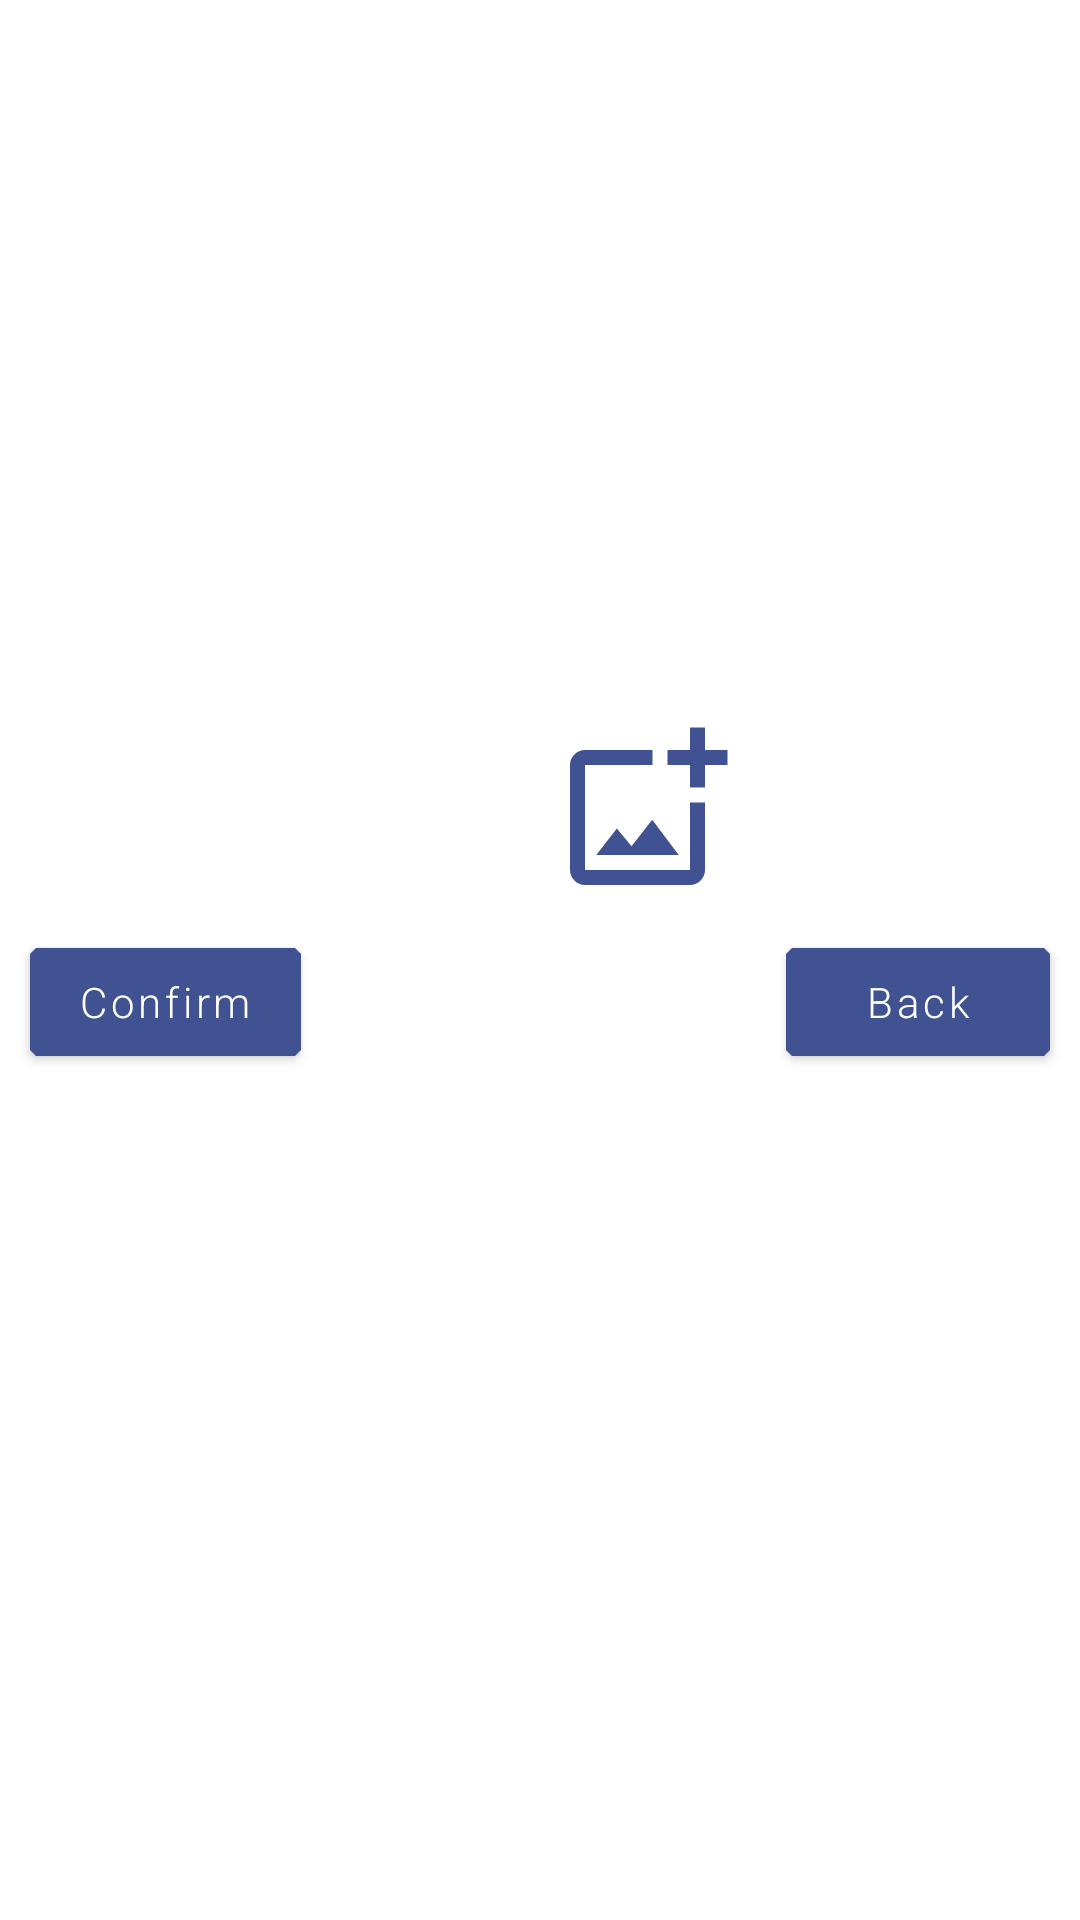

Icon bounding boxes for this 1080*1920 phone screenshot, format (x1, y1, x2, y2):
add photo alternate: (570, 727, 728, 885)
